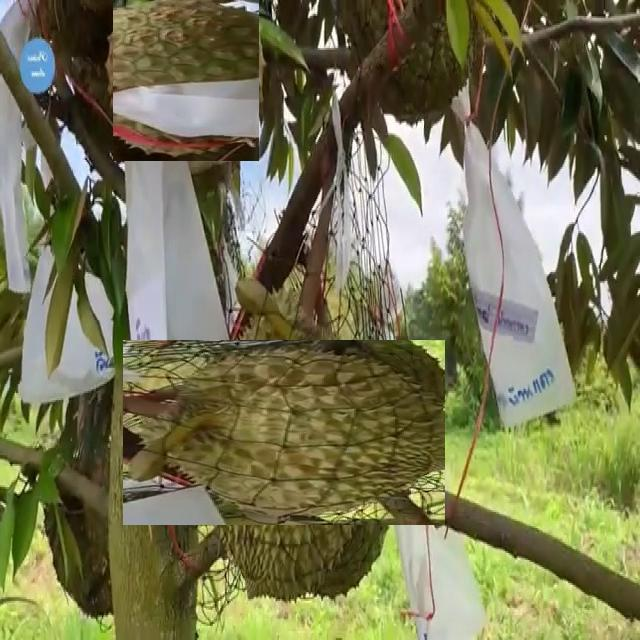durian: (158, 306, 412, 559), (107, 0, 266, 155)
